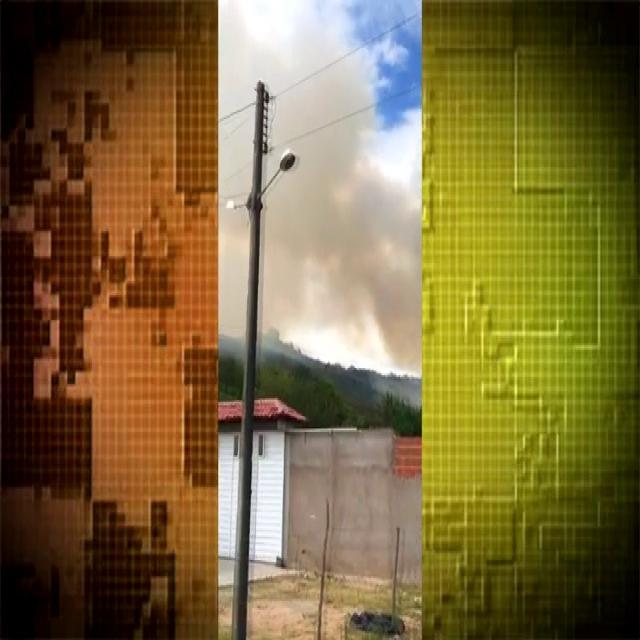Smoke: (296, 31, 414, 358)
